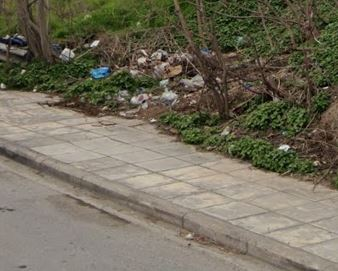trash: (49, 26, 227, 118), (1, 27, 32, 73), (275, 135, 299, 159)
